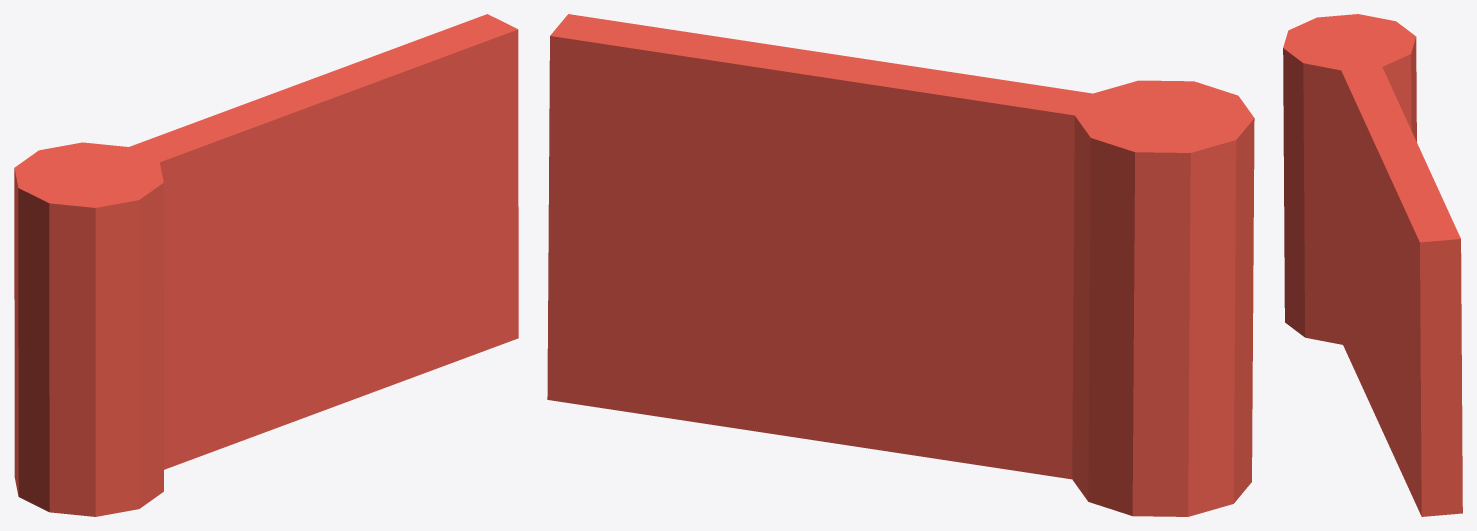
The model's file is aclanengelsag-solaclma (3).fbx.
3 views of the same model, side by side, from view 1: azimuth 30°, elevation 25°; view 2: azimuth 150°, elevation 25°; view 3: azimuth 270°, elevation 25° (orthographic). The views are drawn at different scales.
Visible parts, largest first — view 1: Cylinder; view 2: Cylinder; view 3: Cylinder.
Boxes of the visible parts, left/top/right/bottom form: Cylinder: left=14, top=14, right=518, bottom=516; Cylinder: left=547, top=14, right=1254, bottom=516; Cylinder: left=1283, top=14, right=1462, bottom=516.
Size of the model in its own units: 202 by 113 by 66.3.
